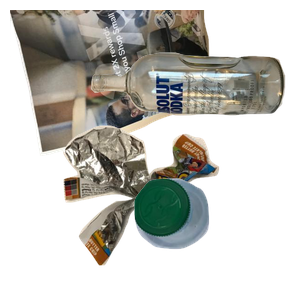glass: (88, 50, 300, 158)
paper: (10, 10, 233, 158)
plastic: (132, 176, 300, 300)
trash: (61, 123, 273, 300)
